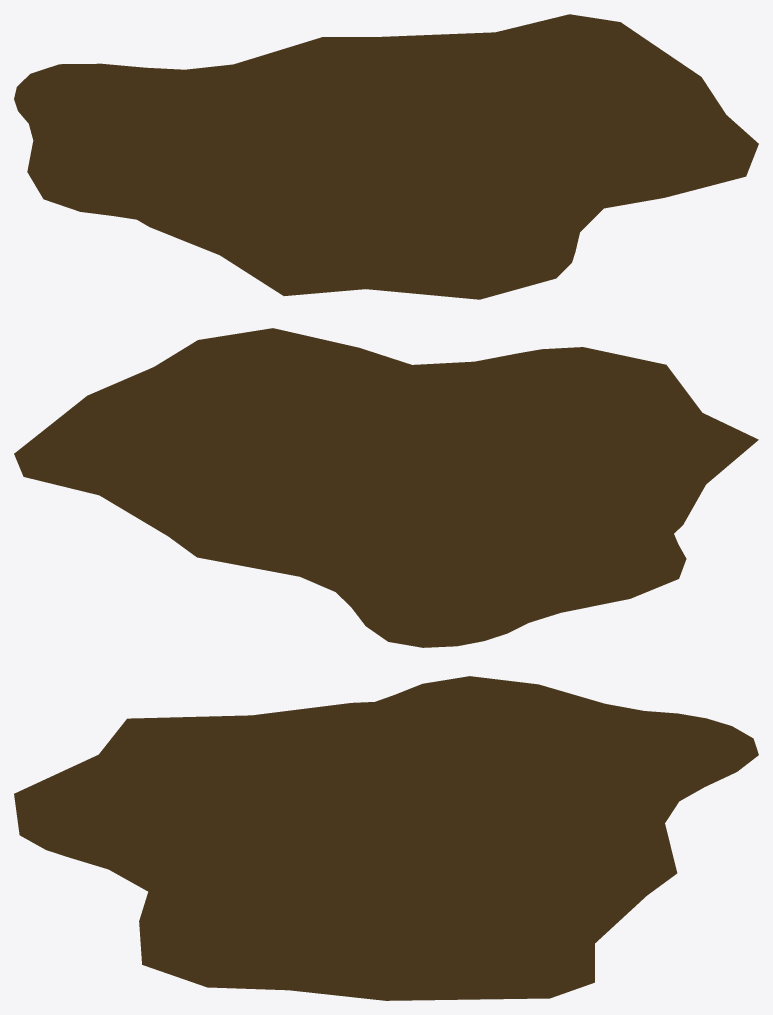
File: mud_4.fbx
3 renders of one model, top to bottom at view 1: azimuth 30°, elevation 25°; view 2: azimuth 150°, elevation 25°; view 3: azimuth 270°, elevation 25°, orthographic. The views are drawn at different scales.
Parts seen in each view (by area): view 1: mud_4; view 2: mud_4; view 3: mud_4.
Part boxes in pixels (bbox=[...]): mud_4: bbox=[14, 14, 758, 299]; mud_4: bbox=[14, 328, 758, 647]; mud_4: bbox=[14, 676, 758, 1000].
Bounding box in the file's own units: 255 × 4.08e-05 × 247.
